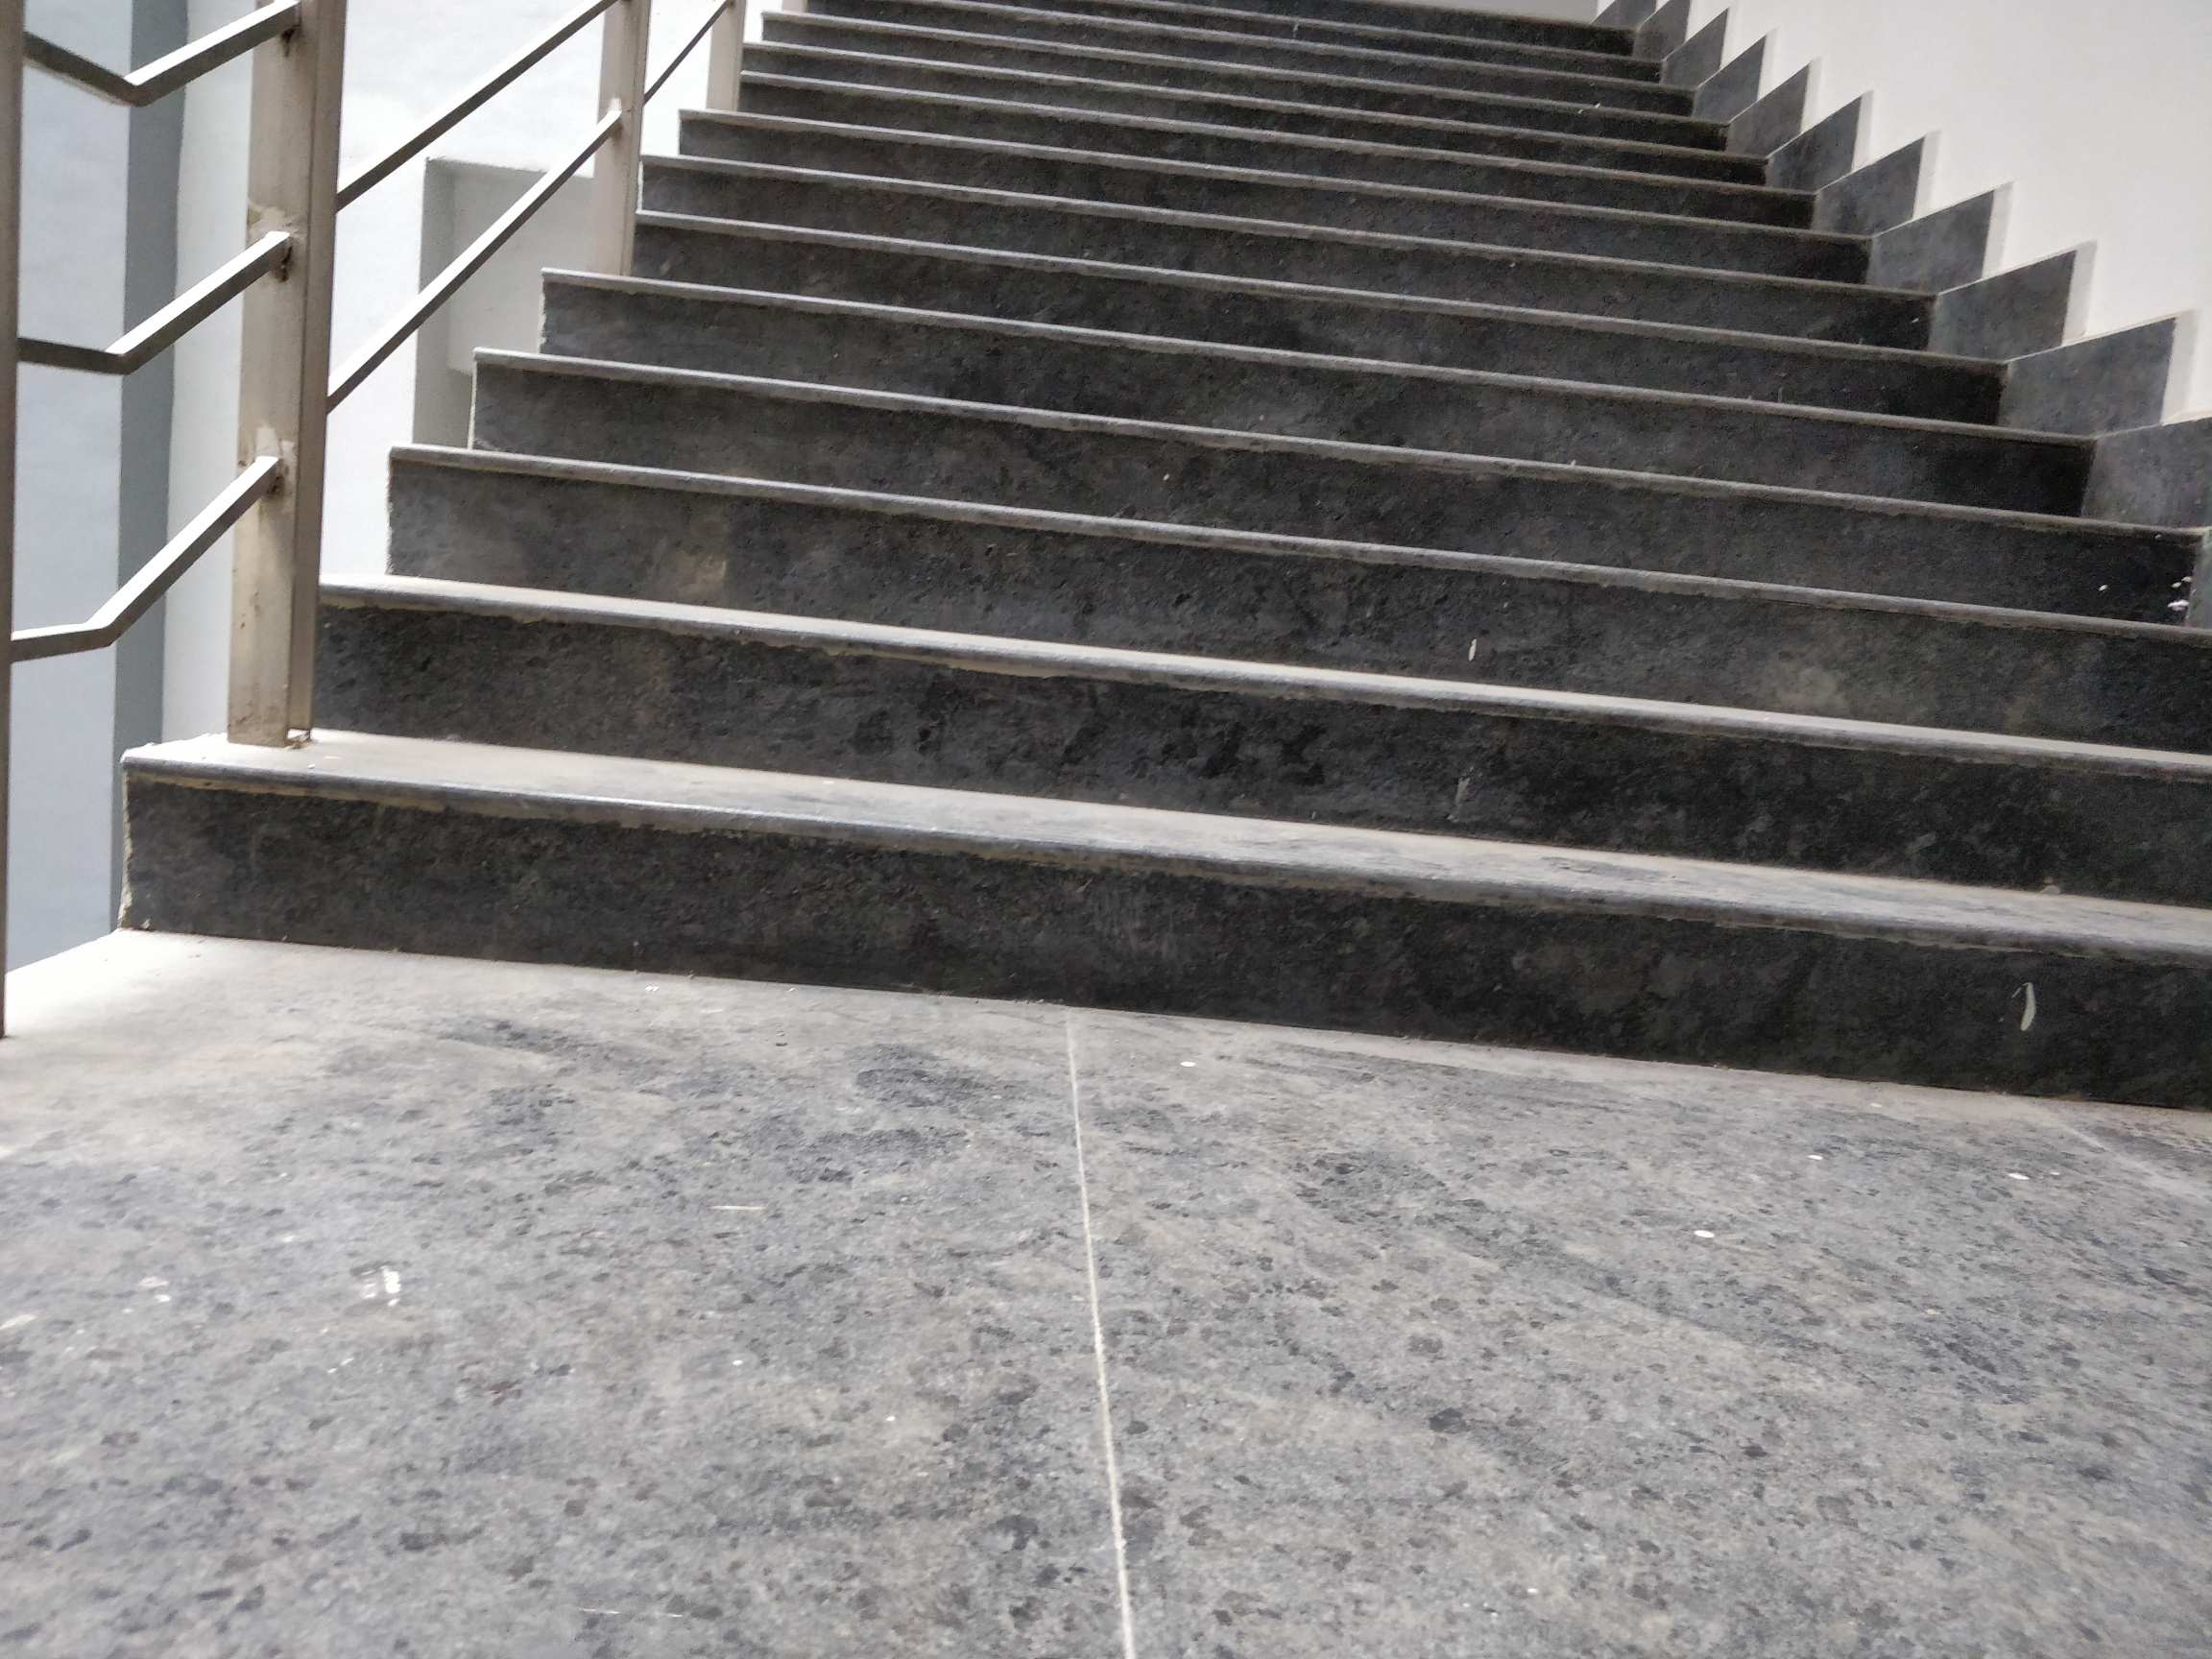stairs_up: (204, 59, 1886, 990)
